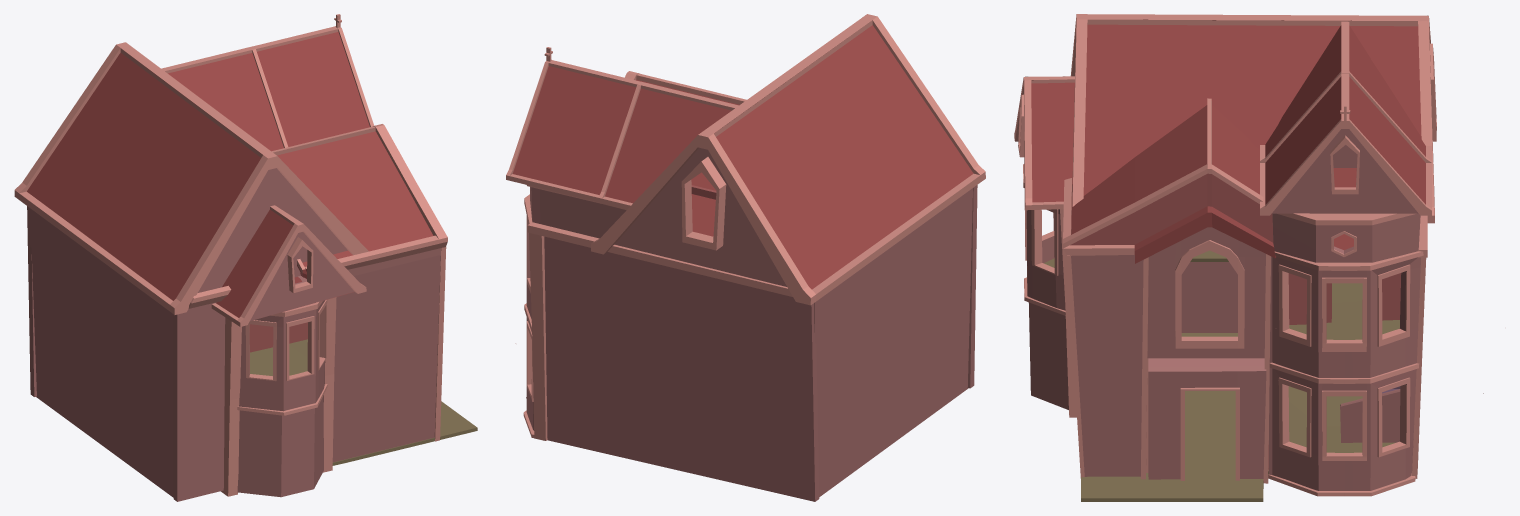
File: stair_fix_house.fbx
The picture shows the model from 3 angles, left to right: view 1: azimuth 30°, elevation 25°; view 2: azimuth 150°, elevation 25°; view 3: azimuth 270°, elevation 25°; orthographic projection. The views are drawn at different scales.
Parts seen in each view (by area): view 1: roof.002, back wall, front wall, roof.001, roof trim.001, roof, fix, roof wall.001, mid walls, collums, trim, L bay (+6 smaller); view 2: Cube, roof.002, back wall, roof.001, roof trim.001, roof wall.001, collums, roof trim, wall, window cross.001, fix, window frame (+2 smaller); view 3: roof.002, mid walls, bay window, front wall, floor, roof.001, roof, window frame, roof trim.001, collums, roof wall, roof.003 (+13 smaller).
Boxes of the visible parts, x1,y1,x2,y2 form: roof.002: (27,52,354,317); back wall: (29,207,173,497); front wall: (332,248,440,462); roof.001: (168,32,369,151); roof trim.001: (14,42,368,326); roof: (277,131,433,283); fix: (173,275,306,501); roof wall.001: (198,168,354,320); mid walls: (237,396,323,497); collums: (221,247,446,496); trim: (188,124,447,308); L bay: (239,300,325,411); Cube: (544,236,819,501); roof.002: (716,25,973,289); back wall: (814,188,972,496); roof.001: (512,66,736,203); roof trim.001: (591,14,985,305); roof wall.001: (615,148,786,286); collums: (527,222,792,440); roof trim: (506,59,738,209); wall: (530,187,626,238); window cross.001: (681,157,726,250); fix: (967,185,977,388); window frame: (523,194,534,437); roof.002: (1031,19,1421,202); mid walls: (1028,227,1266,479); bay window: (1269,256,1483,490); front wall: (1071,255,1143,476); floor: (1044,250,1399,501); roof.001: (1265,25,1425,204); roof: (1071,105,1275,263); window frame: (1268,251,1423,496); roof trim.001: (1014,14,1434,223); collums: (1060,209,1427,483); roof wall: (1272,129,1418,213); roof.003: (1070,173,1273,245).
Size of the model in its own units: 852 by 893 by 1033.
